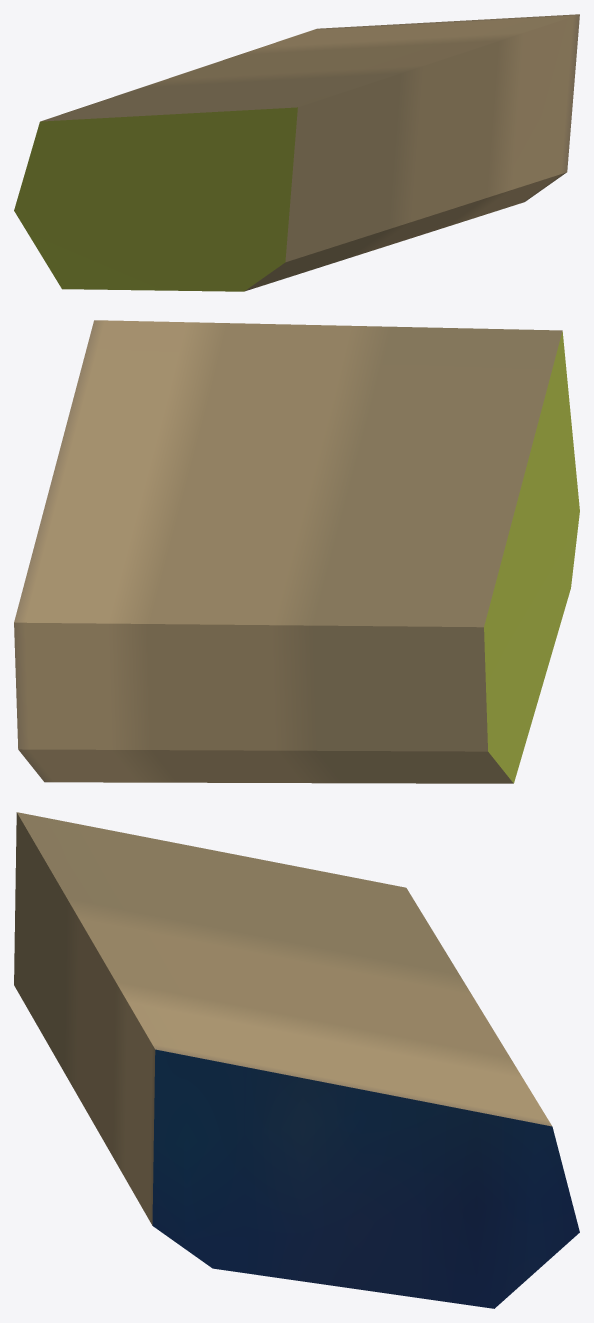
The model's file is 05f0_Belize.glb.
3 renders of one model, top to bottom at view 1: azimuth 30°, elevation 25°; view 2: azimuth 150°, elevation 25°; view 3: azimuth 270°, elevation 25°, orthographic. The views are drawn at different scales.
Visible parts, largest first — view 1: part_0; view 2: part_0; view 3: part_0.
Part boxes in pixels (box(x1,y1,x2,y2)): part_0: box(14, 14, 579, 291); part_0: box(14, 320, 579, 783); part_0: box(14, 812, 579, 1308).
Size of the model in its own units: 0.2532 by 0.1594 by 0.2297.
Materials: 1 (1 with a texture image).
